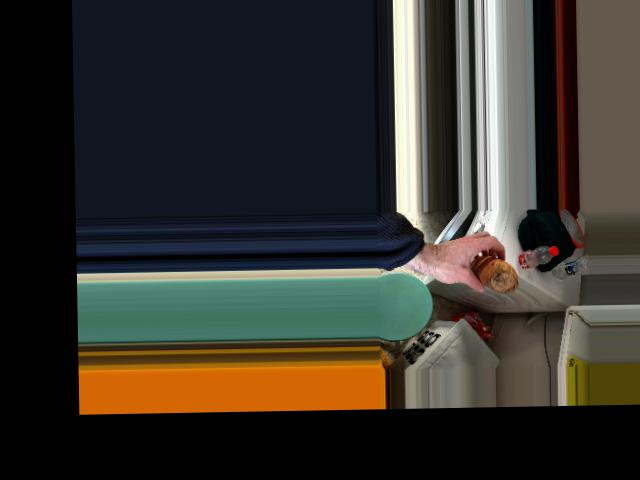sweet_potato: (468, 252, 518, 293)
